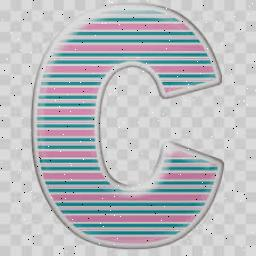c: (28, 0, 238, 252)
